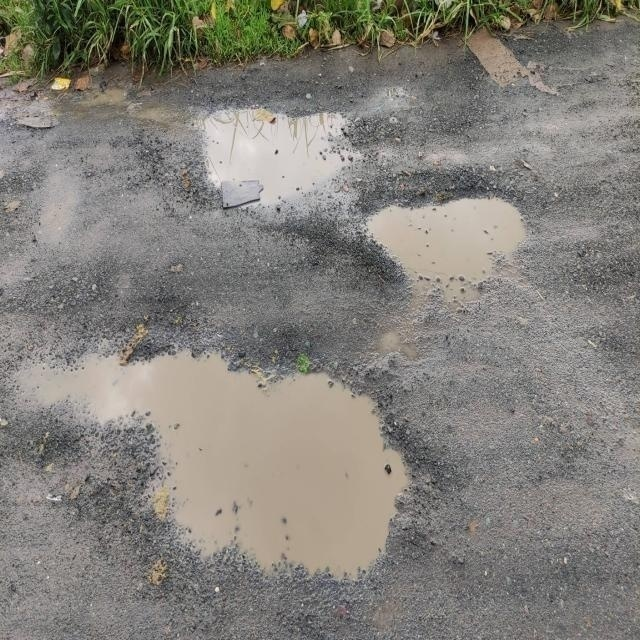pothole: (14, 346, 454, 600), (138, 86, 364, 222), (352, 176, 551, 324)
